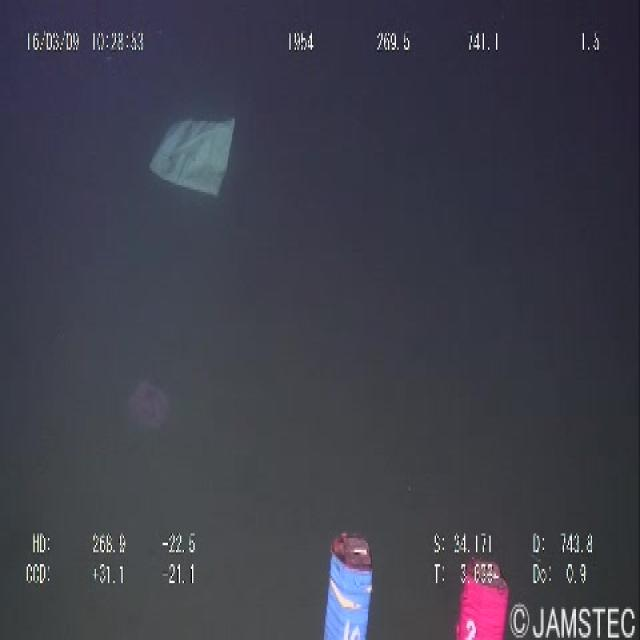plastic: (143, 107, 236, 199)
